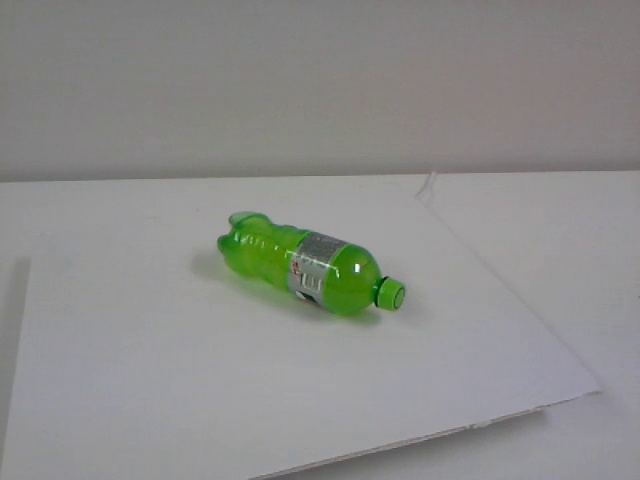botolplastik: (214, 211, 407, 316)
